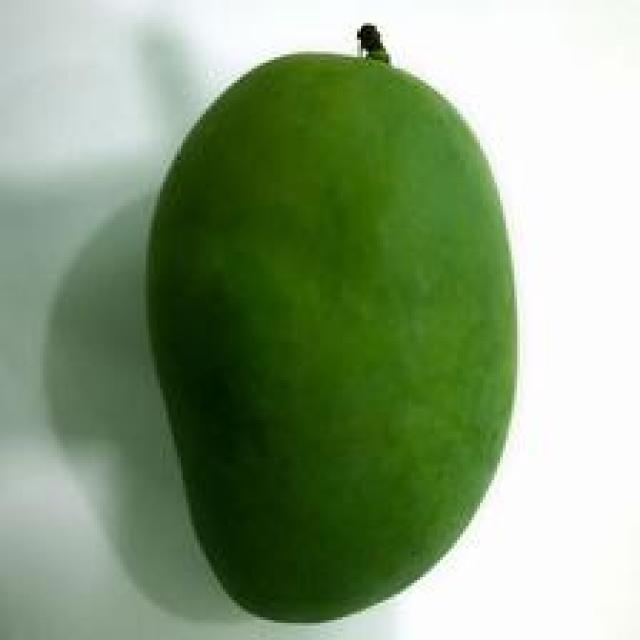Good_Mango: (143, 26, 517, 626)
